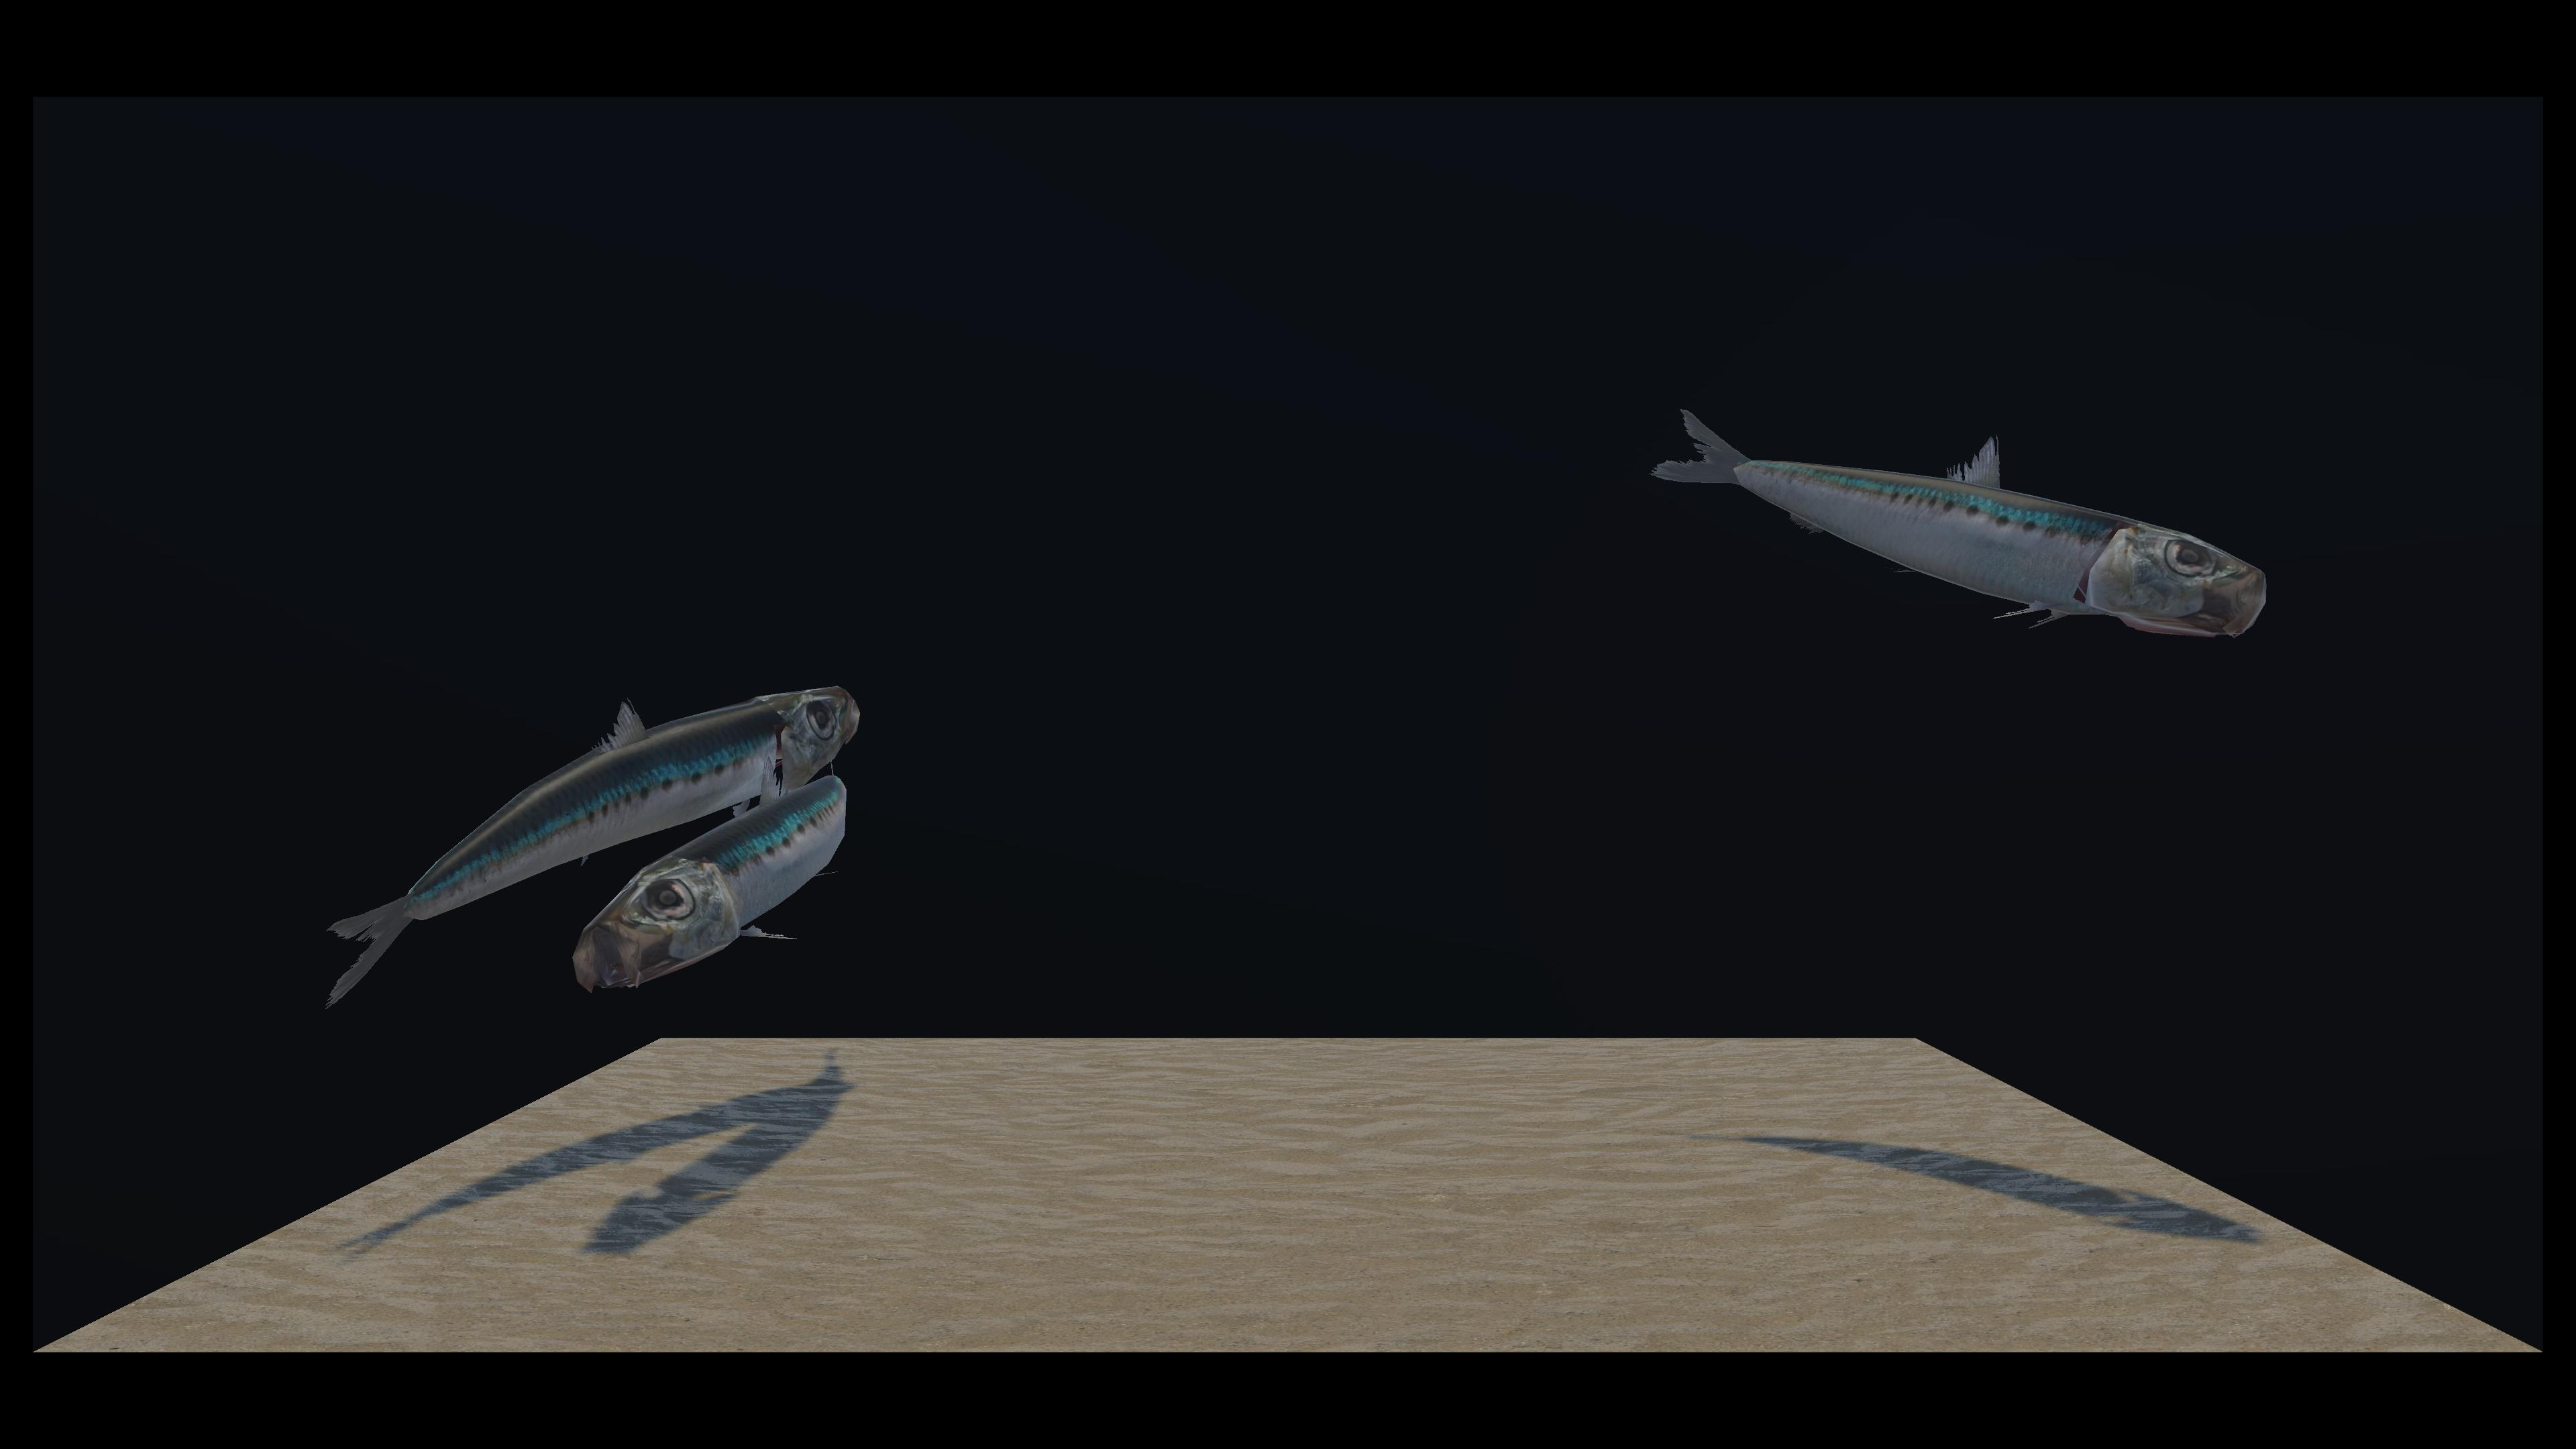Sardine_Front: (938, 407, 2258, 639), (329, 628, 980, 1000), (602, 439, 840, 959)
